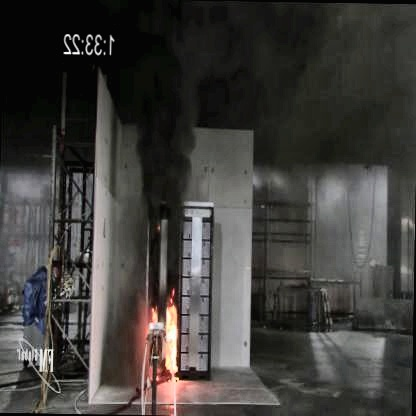fire: (148, 280, 189, 381)
